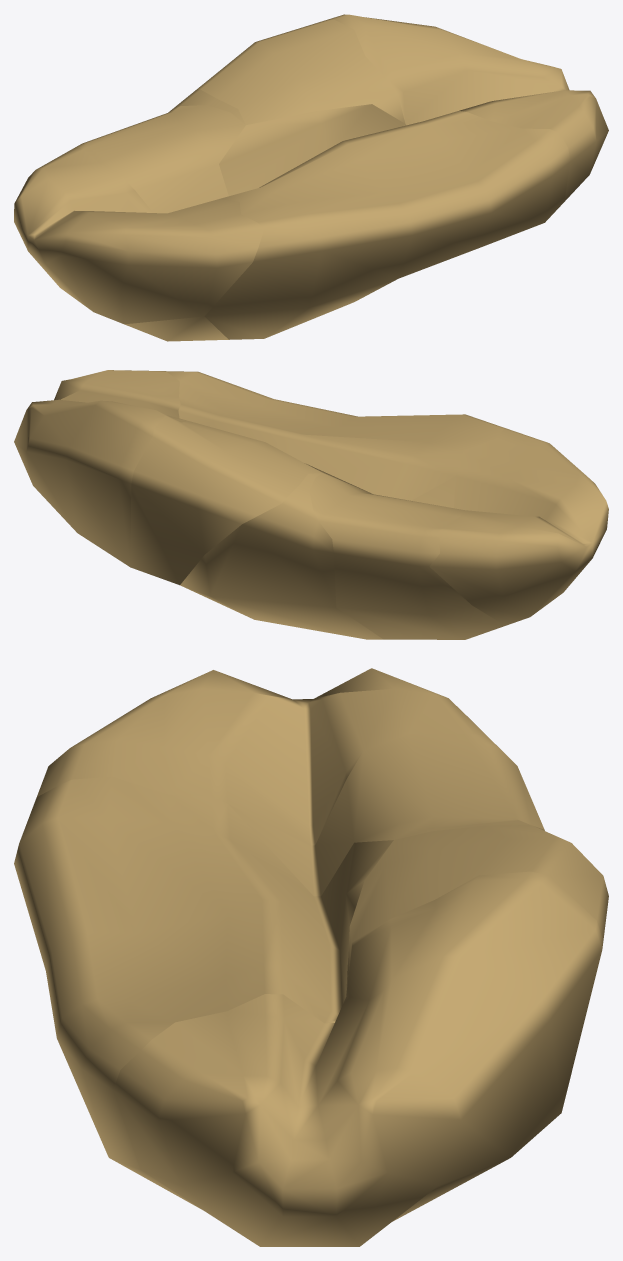
File: Peanut_Pieces.fbx
The picture shows the model from 3 angles, top to bottom: view 1: azimuth 30°, elevation 25°; view 2: azimuth 150°, elevation 25°; view 3: azimuth 270°, elevation 25°; orthographic projection. The views are drawn at different scales.
Visible parts, largest first — view 1: pSphere9; view 2: pSphere9; view 3: pSphere9.
Boxes of the visible parts, bbox=[...] form: pSphere9: bbox=[14, 14, 608, 341]; pSphere9: bbox=[14, 370, 608, 639]; pSphere9: bbox=[14, 668, 608, 1246].
Bounding box in the file's own units: 60.87 × 21.71 × 33.57.
